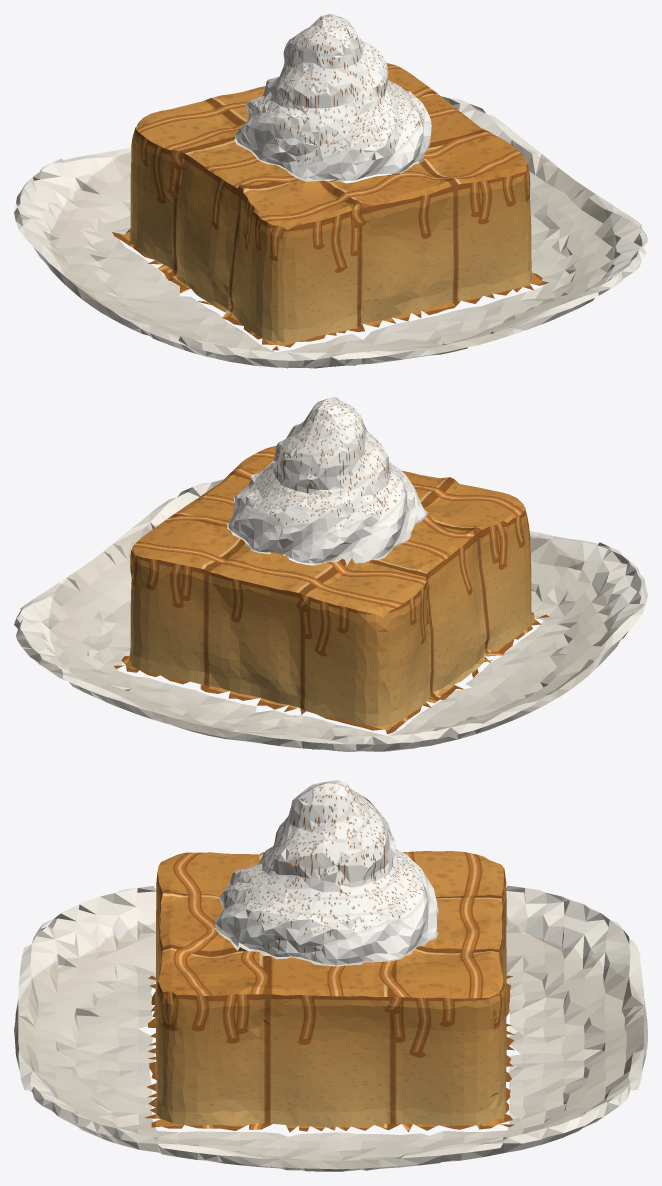
Rendered from HoneyBread.gltf.
3 renders of one model, top to bottom at view 1: azimuth 30°, elevation 25°; view 2: azimuth 150°, elevation 25°; view 3: azimuth 270°, elevation 25°, orthographic. The views are drawn at different scales.
Visible parts, largest first — view 1: Bread, Plate, Cream; view 2: Bread, Plate, Cream; view 3: Bread, Plate, Cream.
Part boxes in pixels (x1,y1,x2,y2): Bread: (112, 63, 548, 350); Plate: (14, 96, 647, 368); Cream: (235, 14, 431, 180); Bread: (114, 446, 549, 734); Plate: (14, 479, 647, 751); Cream: (228, 397, 425, 563); Bread: (144, 851, 514, 1132); Plate: (14, 885, 647, 1171); Cream: (215, 780, 437, 965).
Size of the model in its own units: 4.99 by 2.5 by 4.99.
3 materials, 3 textured.
